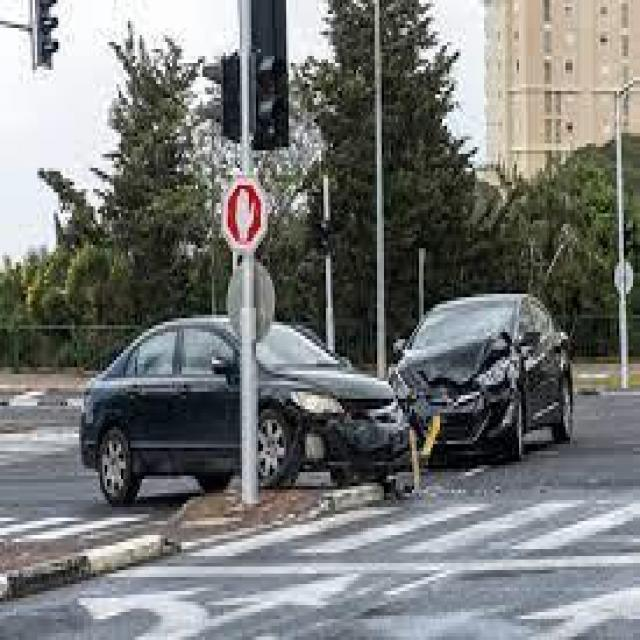accident: (76, 288, 578, 511)
